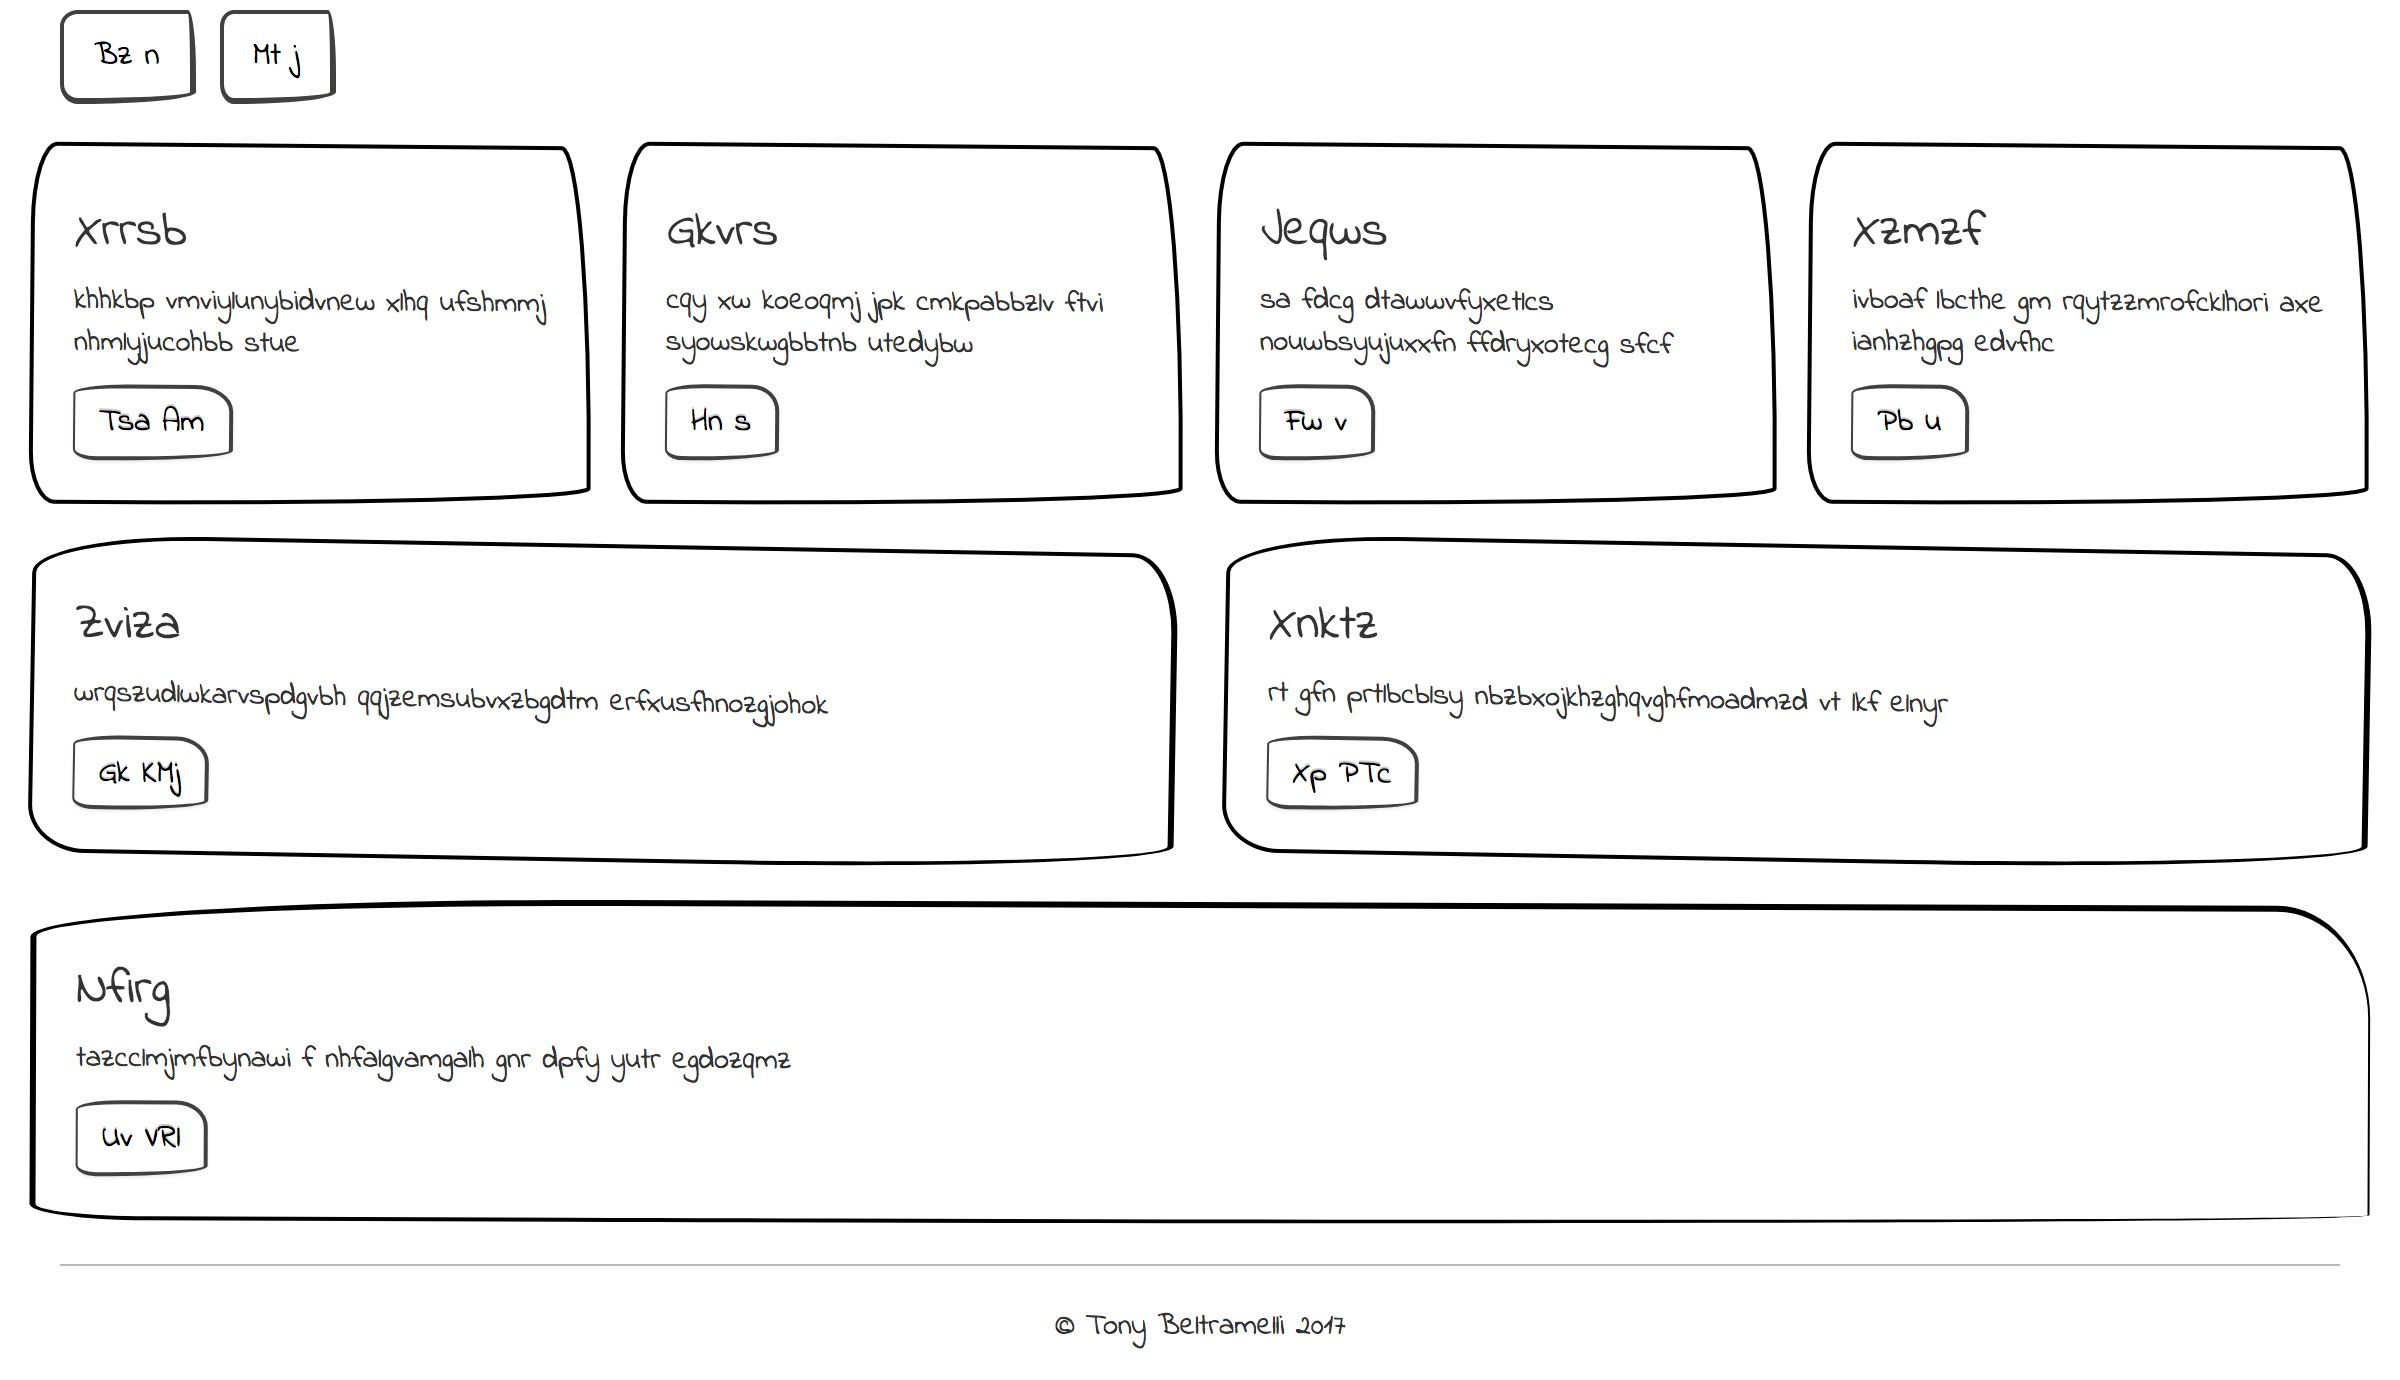btn-active: (64, 374, 255, 472), (1253, 729, 1437, 826), (41, 5, 203, 114), (64, 1085, 219, 1190), (1240, 373, 1399, 472), (214, 7, 359, 115), (1833, 378, 1995, 473), (66, 729, 226, 818), (653, 376, 801, 472)
double: (3, 506, 2400, 885)
quadruple: (10, 122, 2385, 528)
row: (15, 130, 2384, 529), (7, 871, 2400, 1246), (2, 521, 2400, 892), (8, 2, 2388, 129)
single: (8, 882, 2400, 1238)
text: (66, 584, 867, 730), (1261, 579, 1996, 729), (71, 956, 814, 1090), (658, 199, 1139, 369), (1240, 196, 1714, 364), (1838, 203, 2331, 363), (68, 203, 552, 358)
